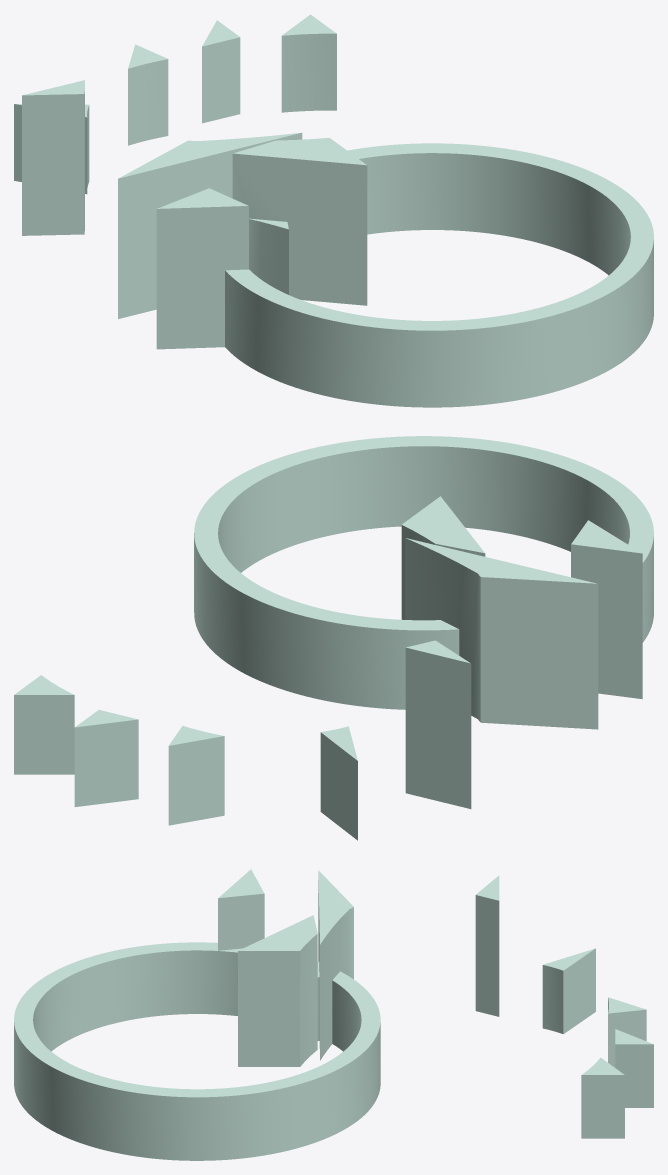
3 views of the same model, one above another, from view 1: azimuth 30°, elevation 25°; view 2: azimuth 150°, elevation 25°; view 3: azimuth 270°, elevation 25° (orthographic). The views are drawn at different scales.
Parts seen in each view (by area): view 1: Renderer Node; view 2: Renderer Node; view 3: Renderer Node.
Part boxes in pixels (<box>): Renderer Node: <box>14,14,653,407</box>; Renderer Node: <box>14,436,653,840</box>; Renderer Node: <box>14,869,653,1160</box>.
Bounding box in the file's own units: 1.34 × 0.4141 × 2.07.
